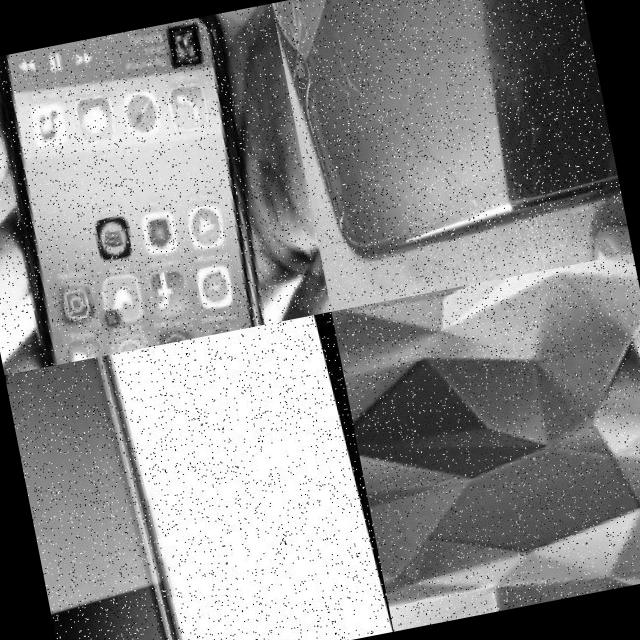screen crack: (271, 0, 486, 251)
